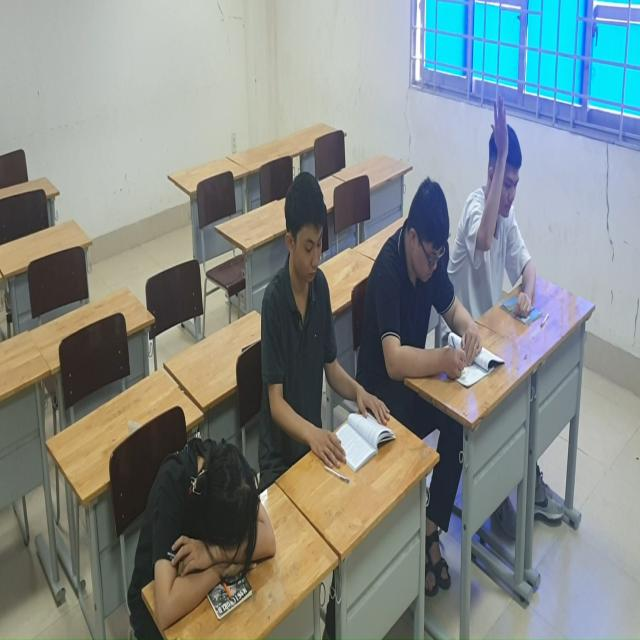raise_hand: (462, 95, 551, 336)
read: (252, 162, 397, 483), (373, 177, 507, 392)
sleep: (115, 435, 286, 637)
